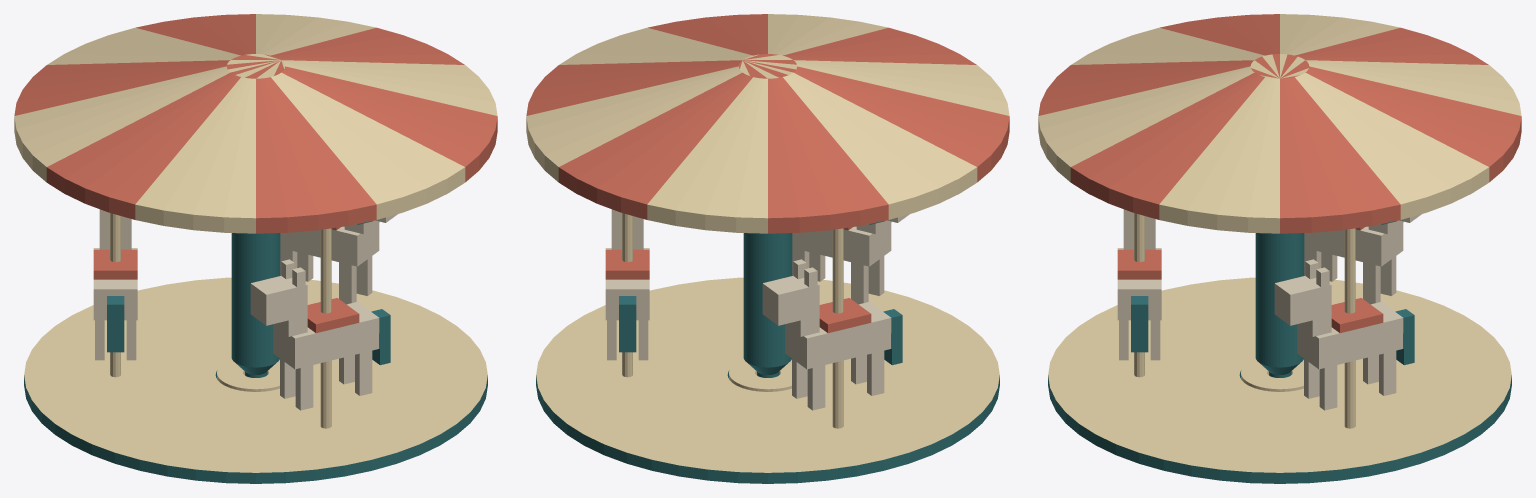
The picture shows the model from 3 angles, left to right: view 1: azimuth 30°, elevation 25°; view 2: azimuth 150°, elevation 25°; view 3: azimuth 270°, elevation 25°; orthographic projection.
Visible parts, largest first — view 1: Canopy_ThickSegmentedCrown, Deck_ThickAnnularCircularPlatform, Horse_OriginalBlockInstance_1, Base_Shoulder_Shaft_CentreColumn, Horse_OriginalBlockInstance_3, Horse_OriginalBlockInstance_2, FixedPole_1, Hub_TrueBoredFlangedSleeve, FixedPole_3; view 2: Canopy_ThickSegmentedCrown, Deck_ThickAnnularCircularPlatform, Horse_OriginalBlockInstance_3, Base_Shoulder_Shaft_CentreColumn, Horse_OriginalBlockInstance_2, Horse_OriginalBlockInstance_1, FixedPole_3, Hub_TrueBoredFlangedSleeve, FixedPole_2; view 3: Canopy_ThickSegmentedCrown, Deck_ThickAnnularCircularPlatform, Horse_OriginalBlockInstance_2, Base_Shoulder_Shaft_CentreColumn, Horse_OriginalBlockInstance_1, Horse_OriginalBlockInstance_3, FixedPole_2, Hub_TrueBoredFlangedSleeve, FixedPole_1.
Part boxes in pixels (x1,y1,x2,y2): Canopy_ThickSegmentedCrown: [14, 14, 497, 233]; Deck_ThickAnnularCircularPlatform: [24, 277, 487, 483]; Horse_OriginalBlockInstance_1: [250, 259, 390, 410]; Base_Shoulder_Shaft_CentreColumn: [231, 233, 280, 377]; Horse_OriginalBlockInstance_3: [93, 209, 137, 360]; Horse_OriginalBlockInstance_2: [280, 214, 397, 304]; FixedPole_1: [320, 228, 331, 428]; Hub_TrueBoredFlangedSleeve: [217, 360, 279, 391]; FixedPole_3: [110, 213, 120, 377]; Canopy_ThickSegmentedCrown: [526, 14, 1009, 233]; Deck_ThickAnnularCircularPlatform: [536, 277, 999, 483]; Horse_OriginalBlockInstance_3: [762, 259, 902, 410]; Base_Shoulder_Shaft_CentreColumn: [743, 233, 792, 377]; Horse_OriginalBlockInstance_2: [605, 209, 649, 360]; Horse_OriginalBlockInstance_1: [792, 214, 909, 304]; FixedPole_3: [832, 228, 843, 428]; Hub_TrueBoredFlangedSleeve: [729, 360, 791, 391]; FixedPole_2: [622, 213, 632, 377]; Canopy_ThickSegmentedCrown: [1038, 14, 1521, 233]; Deck_ThickAnnularCircularPlatform: [1048, 277, 1511, 483]; Horse_OriginalBlockInstance_2: [1274, 259, 1414, 410]; Base_Shoulder_Shaft_CentreColumn: [1255, 233, 1304, 377]; Horse_OriginalBlockInstance_1: [1117, 209, 1161, 360]; Horse_OriginalBlockInstance_3: [1304, 214, 1421, 304]; FixedPole_2: [1344, 228, 1355, 428]; Hub_TrueBoredFlangedSleeve: [1241, 360, 1303, 391]; FixedPole_1: [1134, 213, 1144, 377].
Size of the model in its own units: 3.96 by 3.23 by 3.96.
